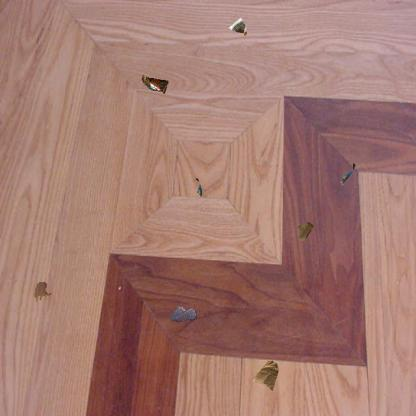dirty: (251, 358, 281, 392), (228, 15, 250, 38), (140, 76, 168, 94), (339, 161, 358, 185), (294, 220, 314, 241), (194, 177, 202, 197)
liquid: (169, 305, 198, 324), (33, 281, 53, 303)
